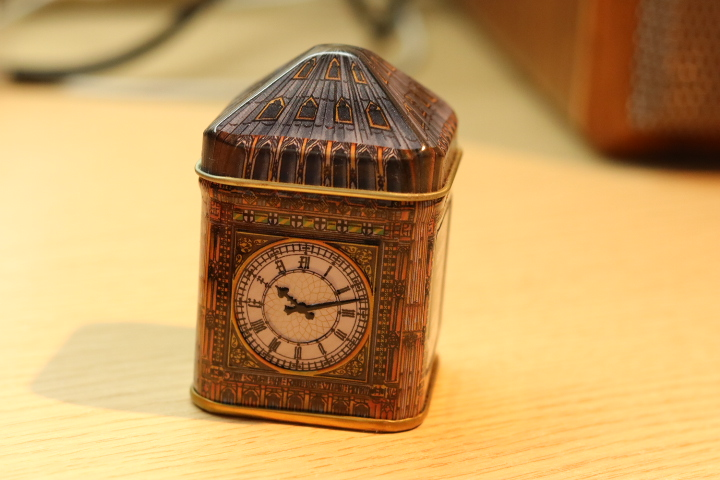Big Ben: (178, 28, 485, 451)
